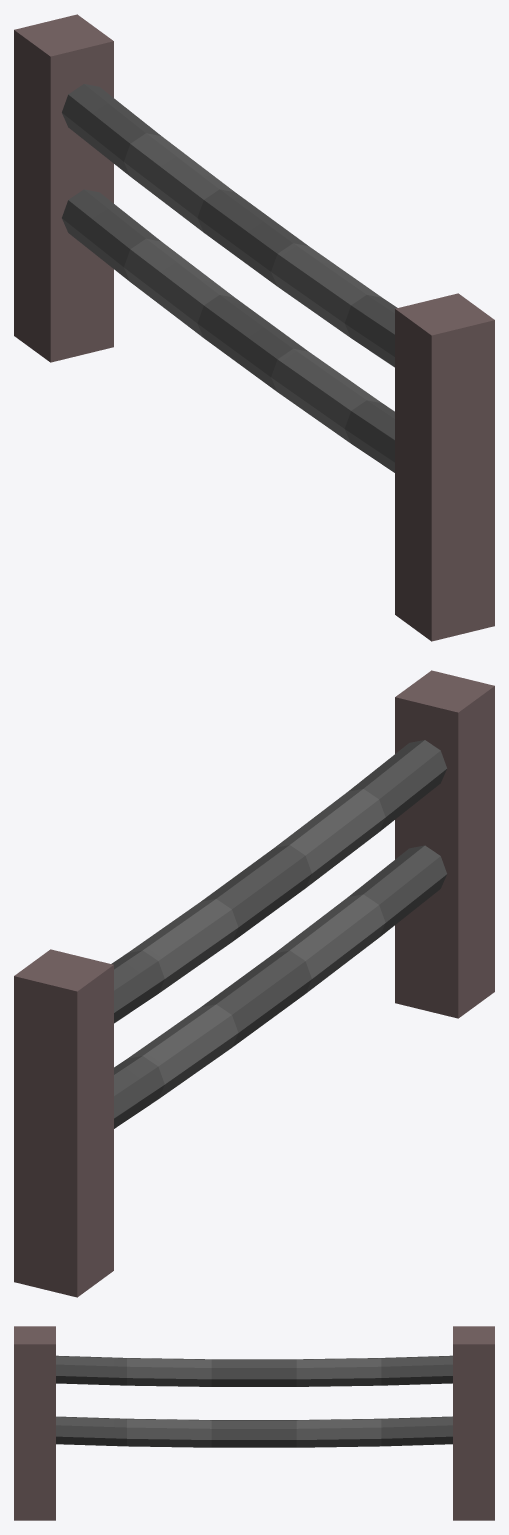
Rendered from Fence.FBX.
The picture shows the model from 3 angles, top to bottom: view 1: azimuth 30°, elevation 25°; view 2: azimuth 150°, elevation 25°; view 3: azimuth 270°, elevation 25°; orthographic projection. The views are drawn at different scales.
Parts seen in each view (by area): view 1: Line003; view 2: Line003; view 3: Line003.
Part boxes in pixels (x1=…): Line003: x1=14, y1=14, x2=494, y2=641; Line003: x1=14, y1=670, x2=494, y2=1297; Line003: x1=14, y1=1326, x2=494, y2=1520.
Size of the model in its own units: 19.69 by 90.86 by 225.
1 material, 1 textured.
